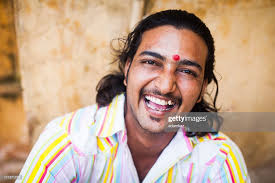Indian_Male: (123, 23, 197, 136)
